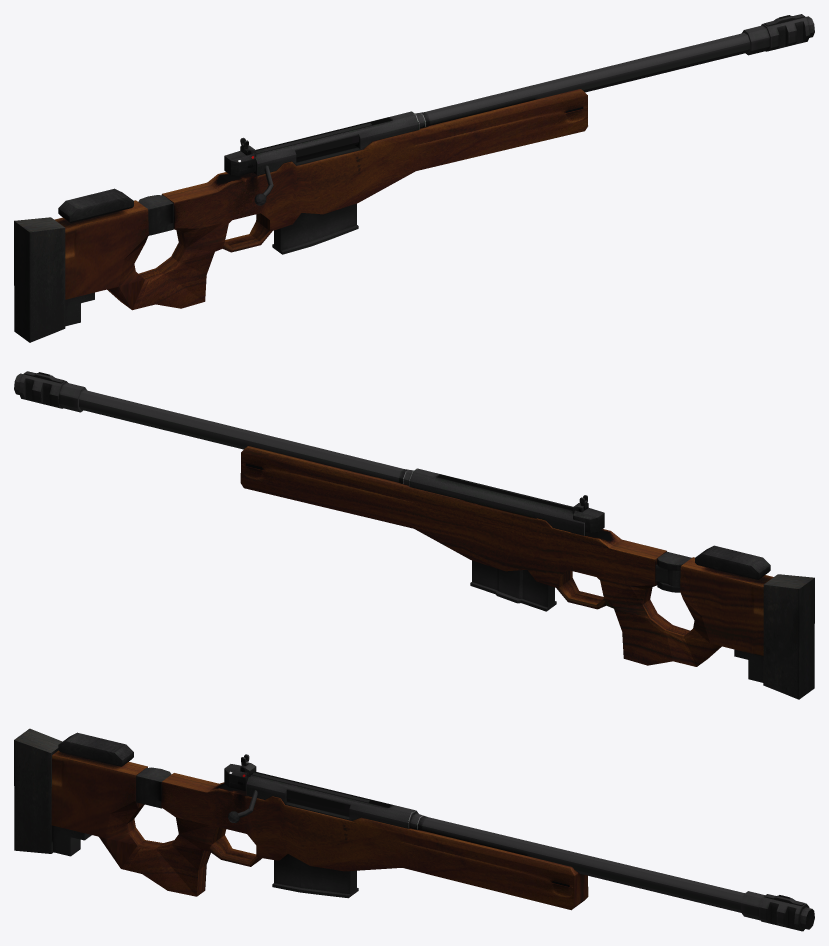
Rendered from sniper.gltf.
3 renders of one model, top to bottom at view 1: azimuth 30°, elevation 25°; view 2: azimuth 150°, elevation 25°; view 3: azimuth 330°, elevation 25°, orthographic.
Parts seen in each view (by area): view 1: sniper_png; view 2: sniper_png; view 3: sniper_png.
Part boxes in pixels (<box>): sniper_png: <box>14,14,814,342</box>; sniper_png: <box>14,371,814,699</box>; sniper_png: <box>14,728,814,931</box>.
Bounding box in the file's own units: 7.49 × 1.35 × 0.3889.
1 material, 1 textured.
